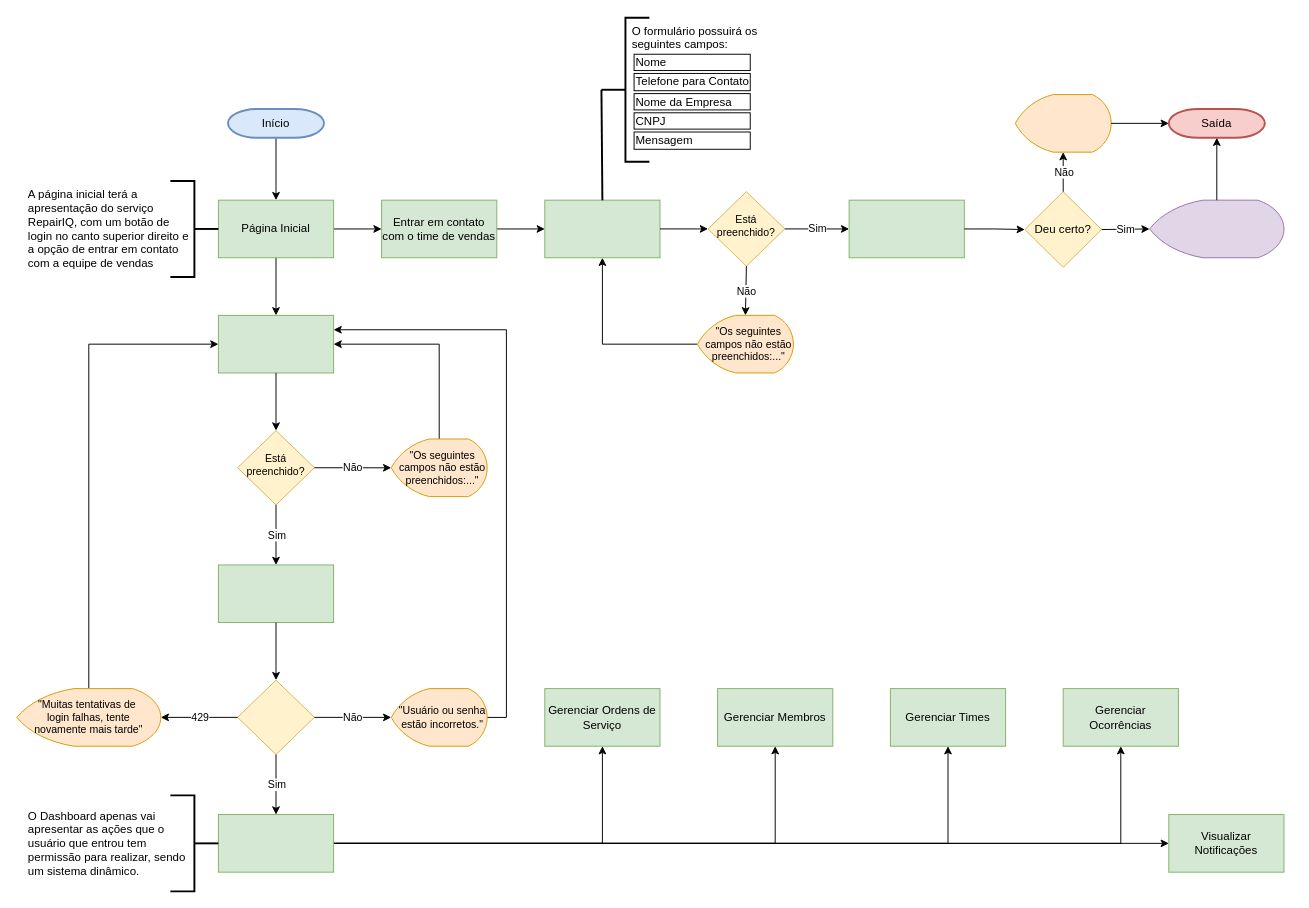
Image size: 1309x908. Some labels were removed from this diagram. The centre of each missing label's shape, as x and y in pixels:
"Erro de Servidor, tente novamente mais tarde": point 1062,123
"Mensagem enviada, entraremos em contato em breve: point 1216,228
Autenticado?: point 275,717
Enviar dados do formulário para o backend: point 906,228
Enviar dados para o Backend: point 275,593
Preencher Formulário de contato.: point 602,228
Realizar Login: point 275,343
Redirecionar para dashboard com o sufixo da empresa contratante.: point 275,843
